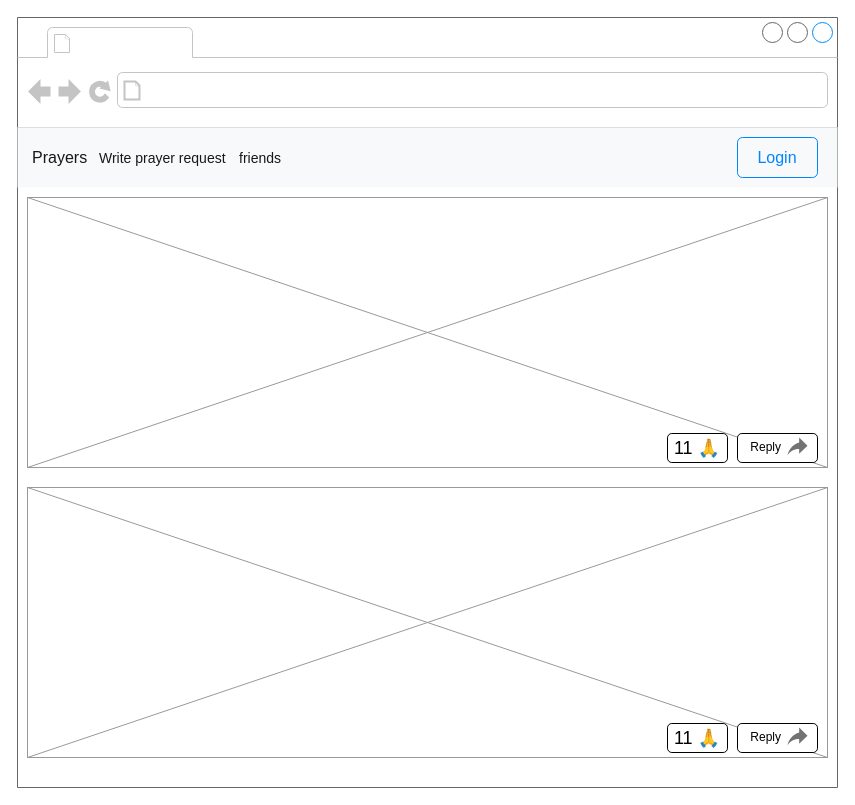
Some shapes in this 855 by 805 pixel diagram are drawn without their labels. The shapes that lost their labels are listed below. From the top down, each one's centre as x and y in pixels, then its label:
point (132, 42): Page 1
point (272, 90): localhost
